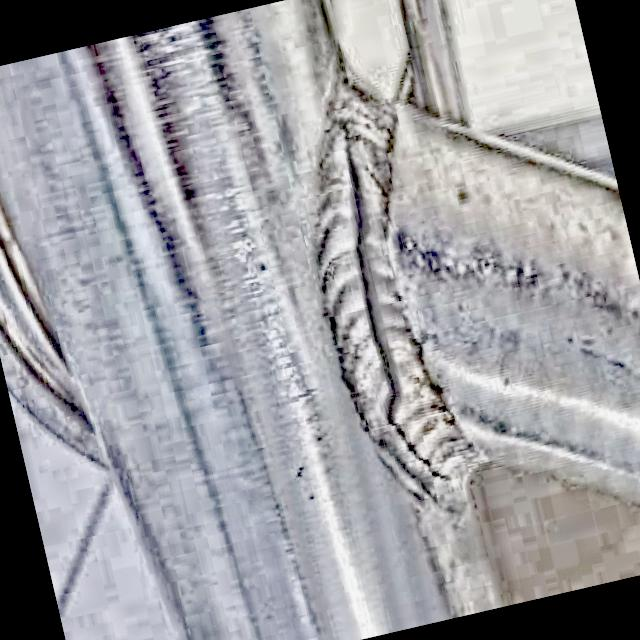crack: (329, 148, 389, 310), (367, 314, 411, 438), (404, 432, 440, 483)
